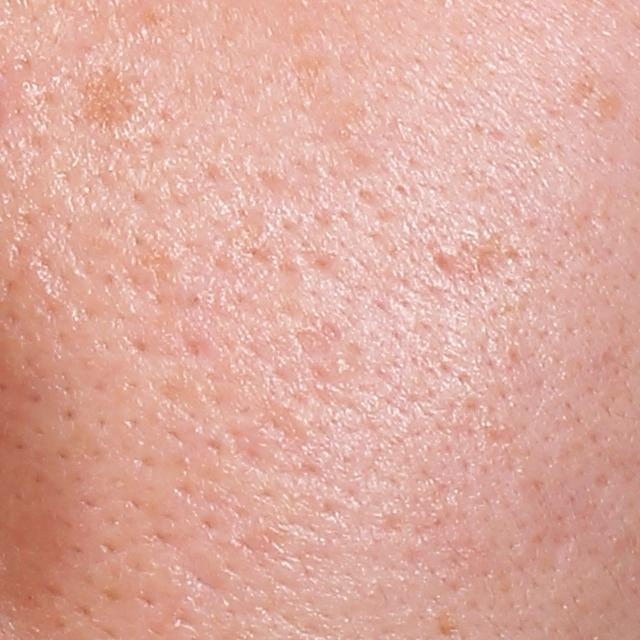atrophic_scar: (432, 236, 512, 290), (219, 423, 280, 472)
